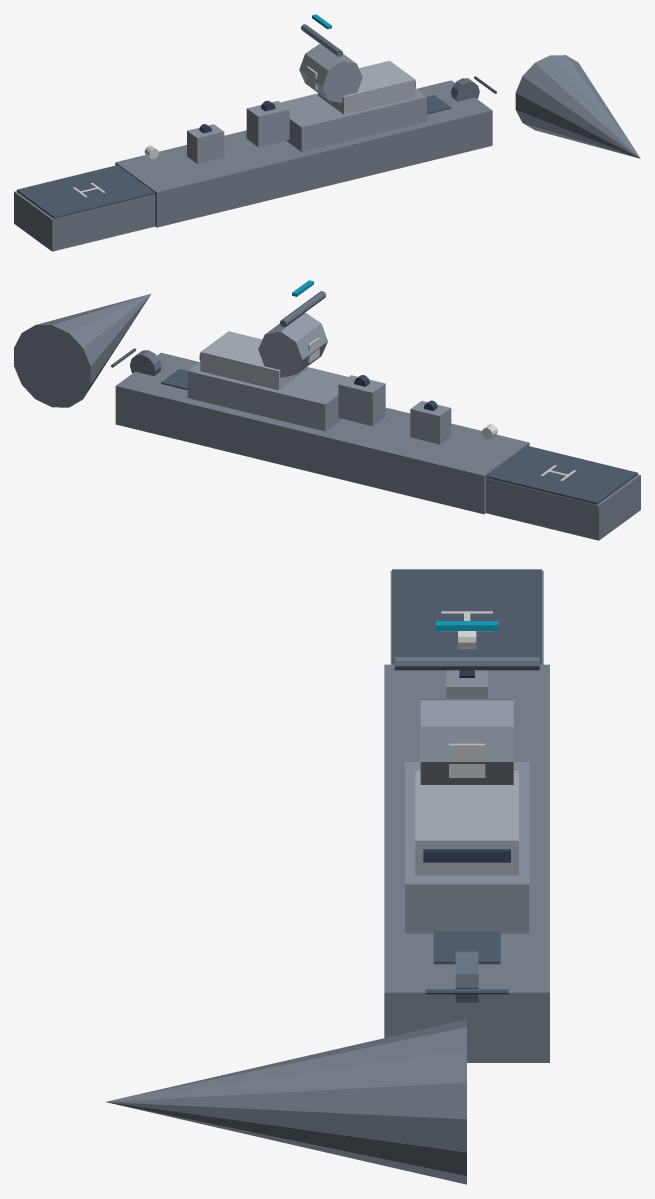
File: destroyer_warship.glb
The picture shows the model from 3 angles, top to bottom: view 1: azimuth 30°, elevation 25°; view 2: azimuth 150°, elevation 25°; view 3: azimuth 270°, elevation 25°; orthographic projection. The views are drawn at different scales.
Parts seen in each view (by area): view 1: world; view 2: world; view 3: world.
Part boxes in pixels (x1=…): world: x1=14, y1=14, x2=640, y2=251; world: x1=14, y1=280, x2=640, y2=540; world: x1=106, y1=569, x2=549, y2=1184.
Size of the model in its own units: 123 by 35.3 by 43.
